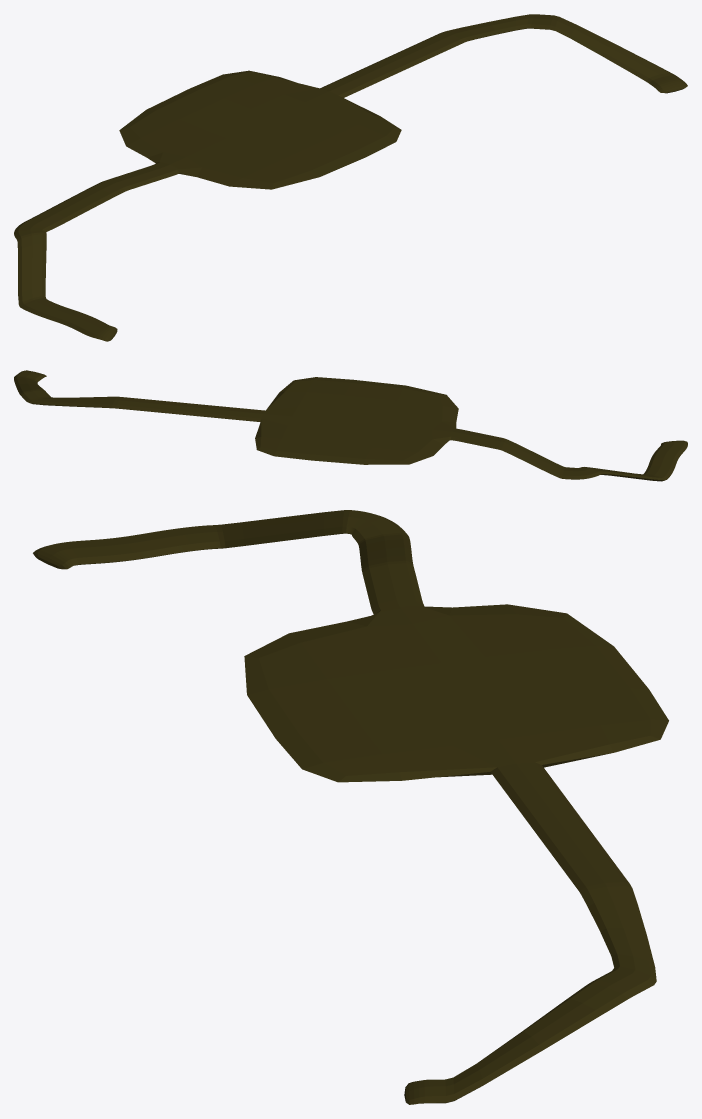
File: groundBrigde.fbx
The picture shows the model from 3 angles, top to bottom: view 1: azimuth 30°, elevation 25°; view 2: azimuth 150°, elevation 25°; view 3: azimuth 270°, elevation 25°; orthographic projection. The views are drawn at different scales.
Visible parts, largest first — view 1: Cube.001; view 2: Cube.001; view 3: Cube.001.
Part boxes in pixels (x1,y1,x2,y2): Cube.001: (14, 14, 687, 341); Cube.001: (14, 370, 687, 481); Cube.001: (33, 510, 668, 1104).
Size of the model in its own units: 46500 by 3283 by 21571.
